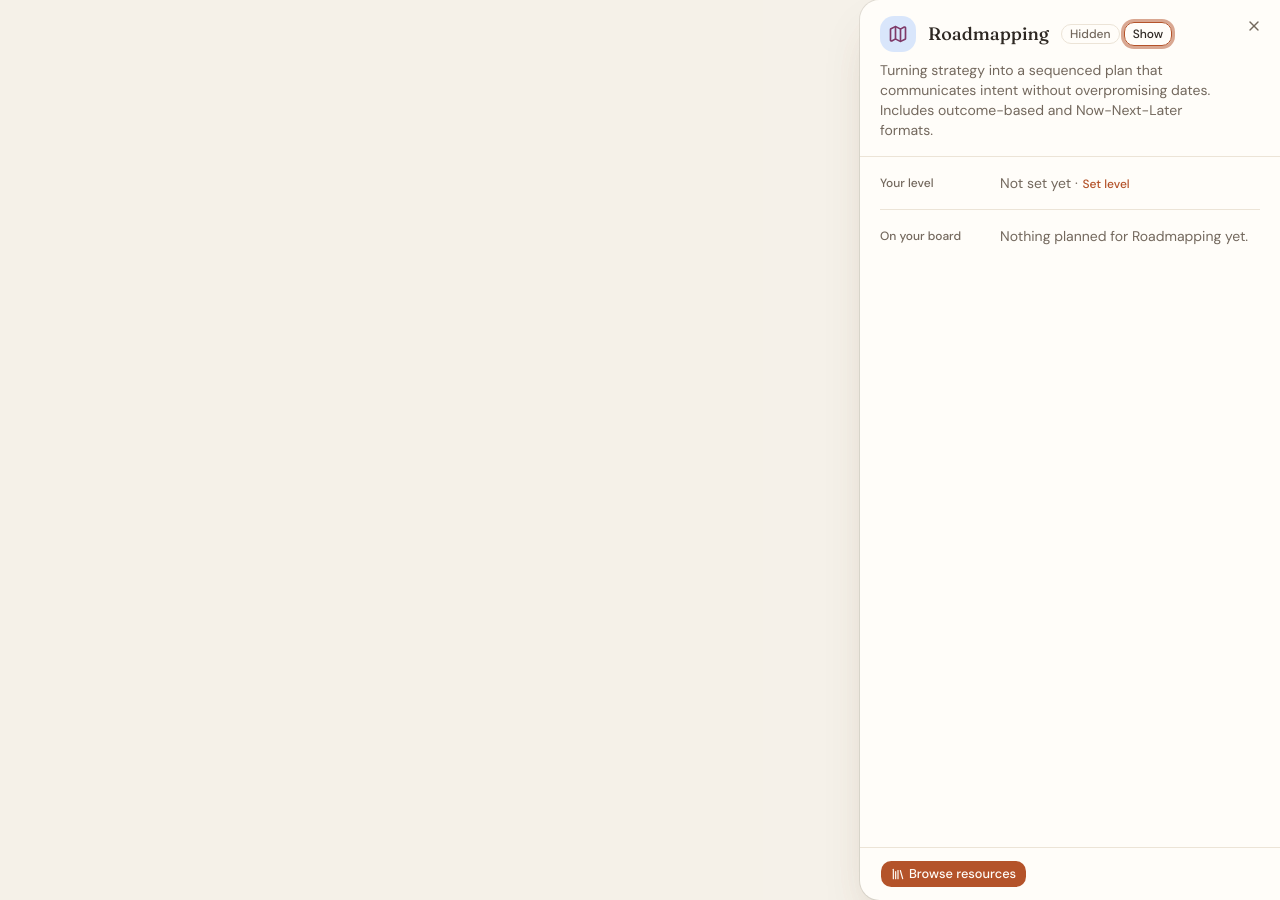
Test: SkillSheet › marks a hidden skill and can show it again
expect the icon "Hidden" is shown: met, box top-left (1061, 24), bottom-right (1120, 44)
Click the button "Show" at (1148, 34), box top-left (1124, 22), bottom-right (1172, 46)
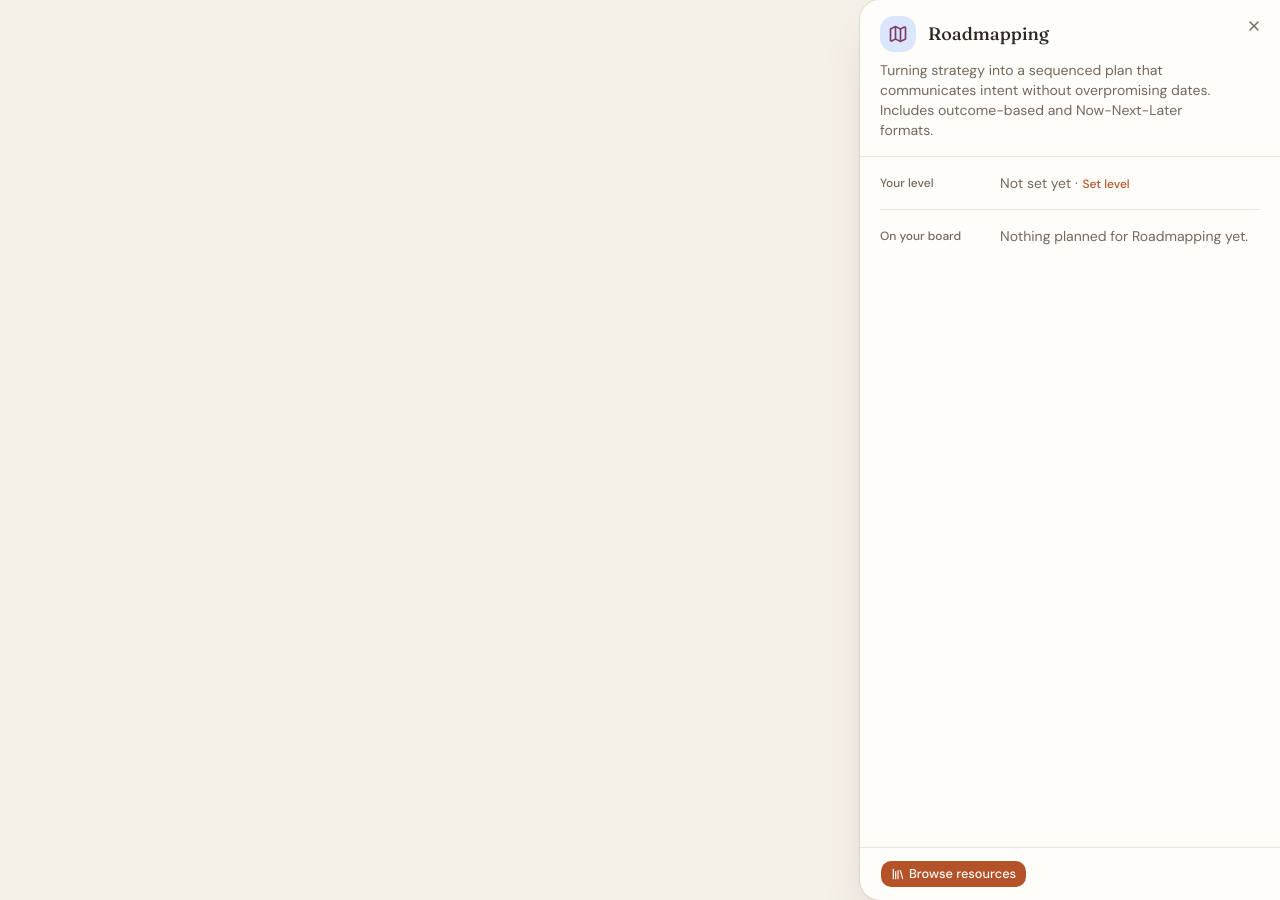
expect the icon "Hidden" is gone: met
